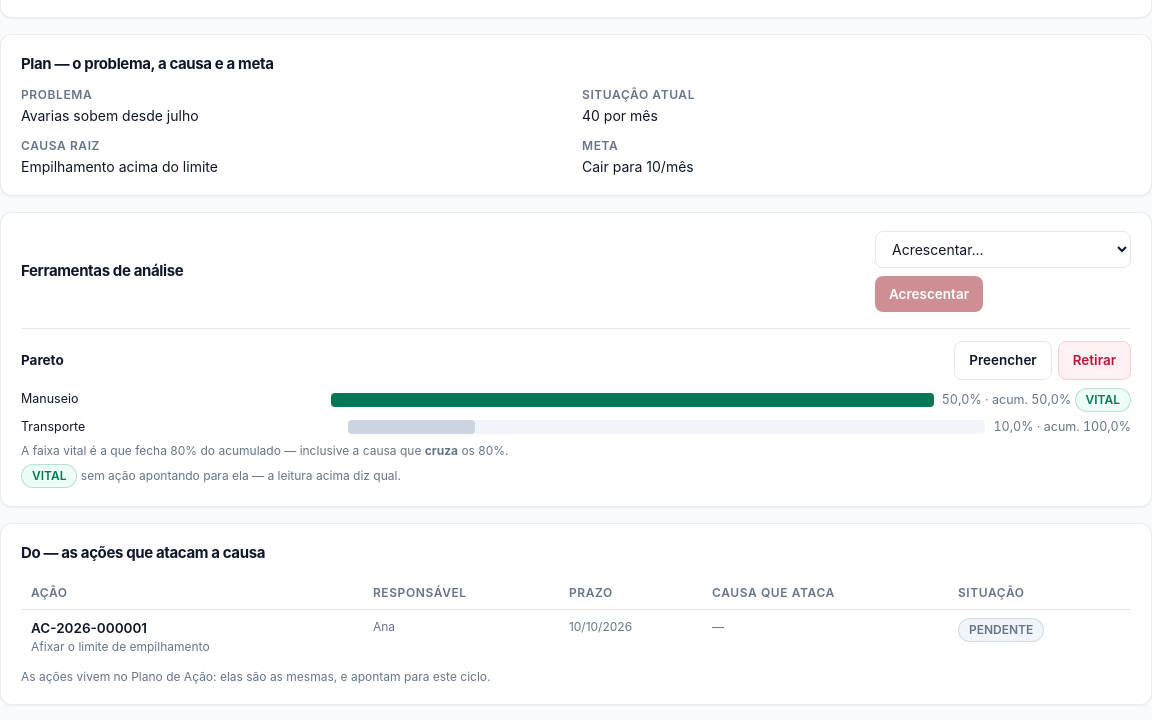
Test case: <CicloDeMelhoria /> › preencher abre o formulário da ferramenta, e não um campo de JSON
(page scrolled)
Expected: the element with test id "pareto" is shown, [21,388,1131,460]
Click the button "Preencher": (1003, 360) [954,341,1052,380]
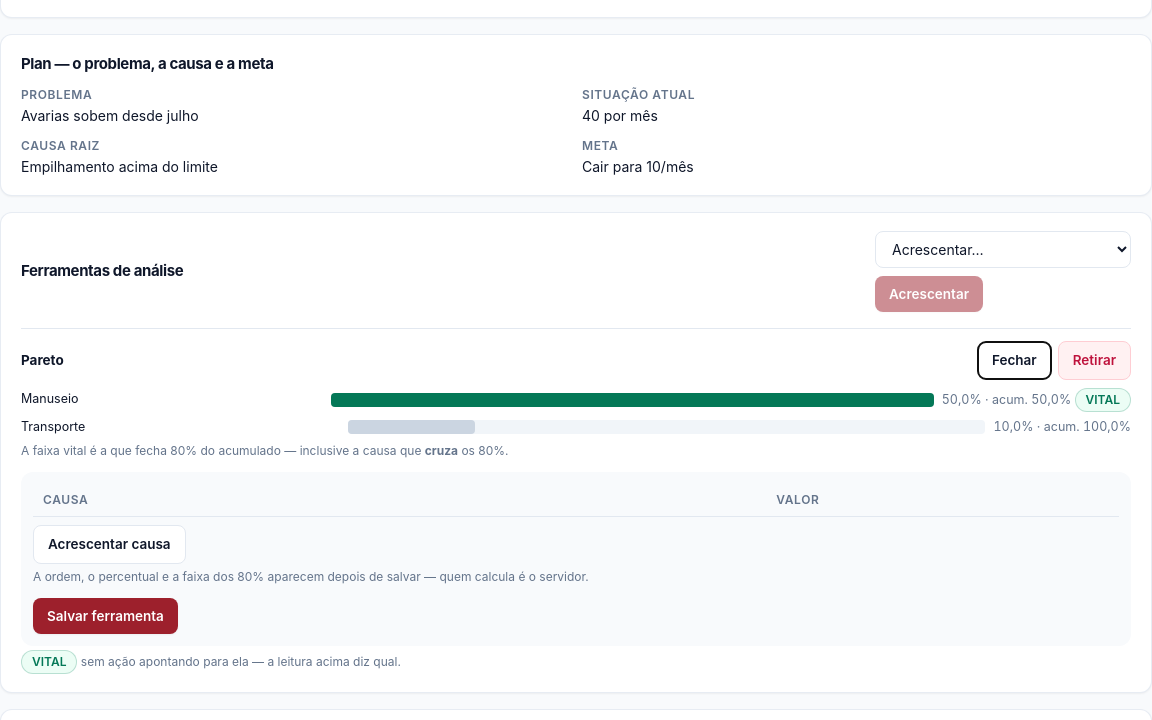
Expected: the button "Acrescentar causa" is shown, [33,525,186,564]
